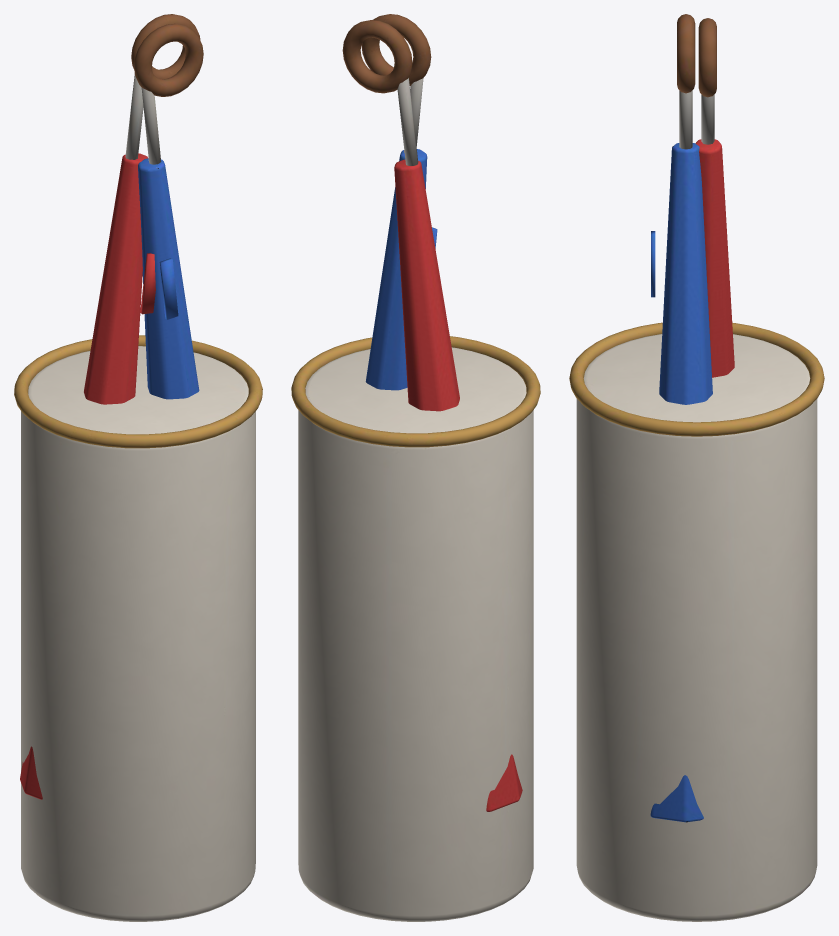
The model's file is scene-umbrella-stand.glb.
The picture shows the model from 3 angles, left to right: view 1: azimuth 30°, elevation 25°; view 2: azimuth 150°, elevation 25°; view 3: azimuth 270°, elevation 25°; orthographic projection. The views are drawn at different scales.
Visible parts, largest first — view 1: scene-umbrella-stand; view 2: scene-umbrella-stand; view 3: scene-umbrella-stand.
Boxes of the visible parts, x1,y1,x2,y2 form: scene-umbrella-stand: (14, 14, 262, 921); scene-umbrella-stand: (291, 14, 540, 921); scene-umbrella-stand: (569, 14, 824, 921).
Size of the model in its own units: 0.2396 by 0.9 by 0.2395.
Materials: 1 (1 with a texture image).
